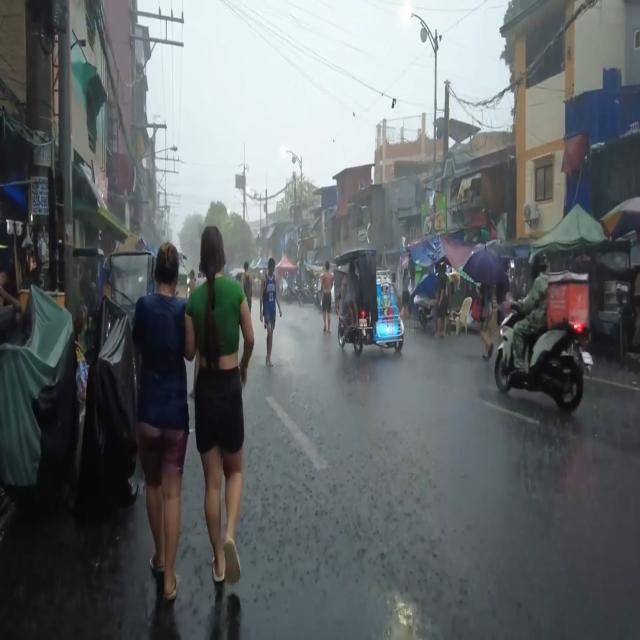full: (528, 250, 549, 282)
